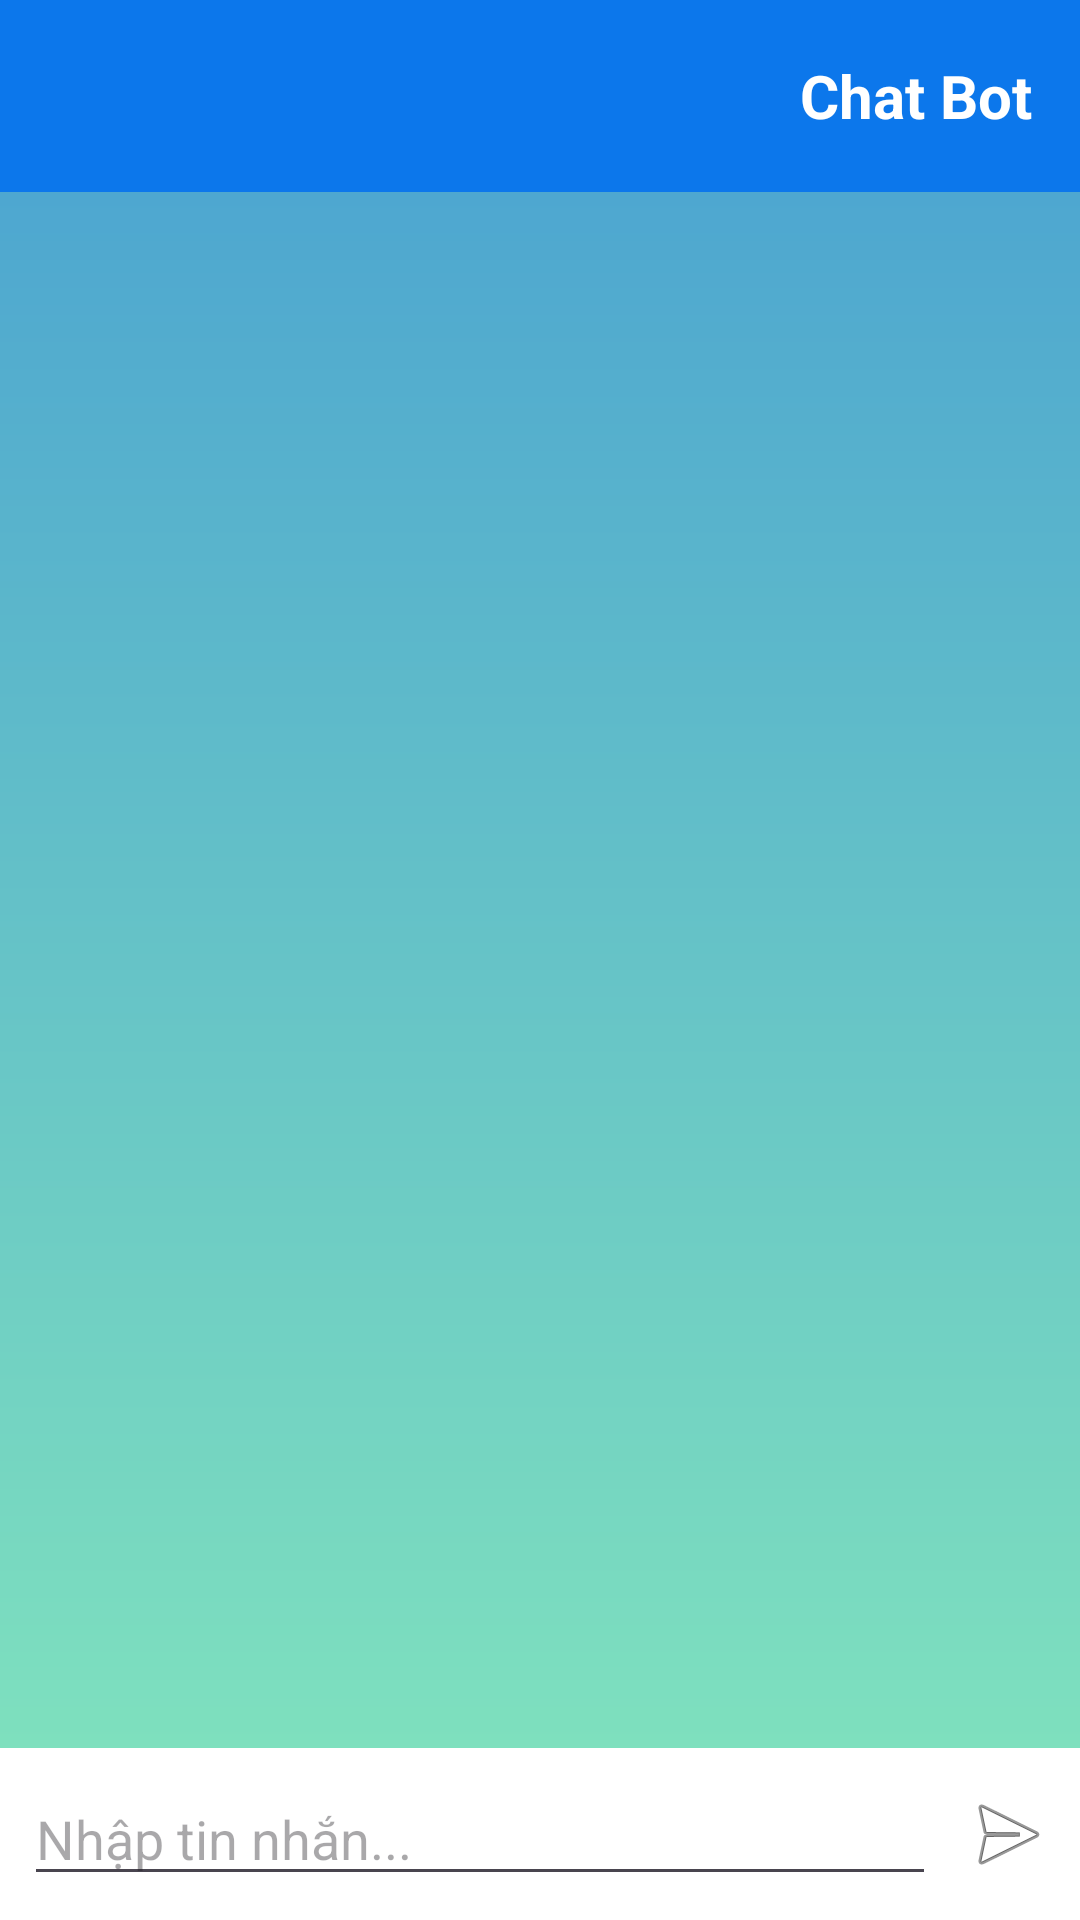

Screen size 1080px x 1920px. Icon name, then its box in pixels as (x1,y1,x2,y2):
Gửi: (978,1804,1040,1865)
